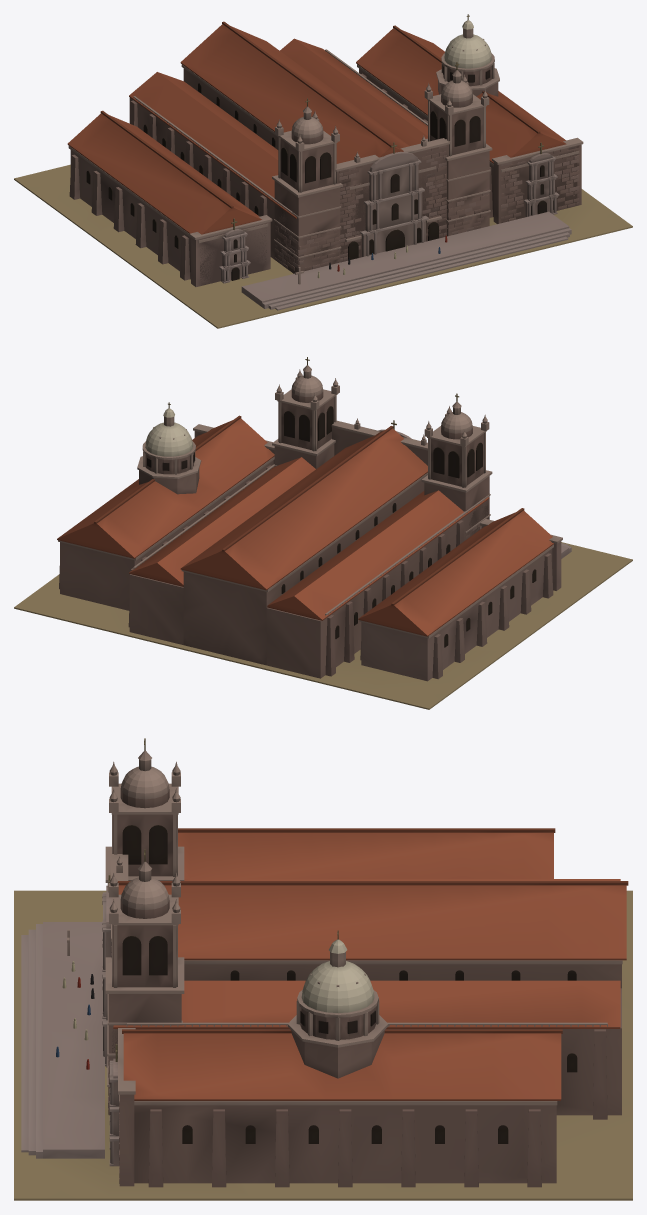
The model's file is cathedral.glb.
3 renders of one model, top to bottom at view 1: azimuth 30°, elevation 25°; view 2: azimuth 150°, elevation 25°; view 3: azimuth 270°, elevation 25°, orthographic. The views are drawn at different scales.
Visible parts, largest first — view 1: p1_cathedral, p2_chapels, p0_atrium; view 2: p1_cathedral, p2_chapels, p0_atrium; view 3: p2_chapels, p1_cathedral, p0_atrium.
Boxes of the visible parts, x1,y1,x2,y2 form: p1_cathedral: (129, 21, 492, 273); p2_chapels: (67, 14, 583, 286); p0_atrium: (14, 164, 632, 328); p1_cathedral: (128, 357, 492, 678); p2_chapels: (57, 402, 562, 681); p0_atrium: (14, 542, 632, 709); p2_chapels: (109, 828, 562, 1187); p1_cathedral: (102, 738, 628, 1119); p0_atrium: (14, 890, 632, 1200).
Size of the model in its own units: 100 by 38.26 by 85.
